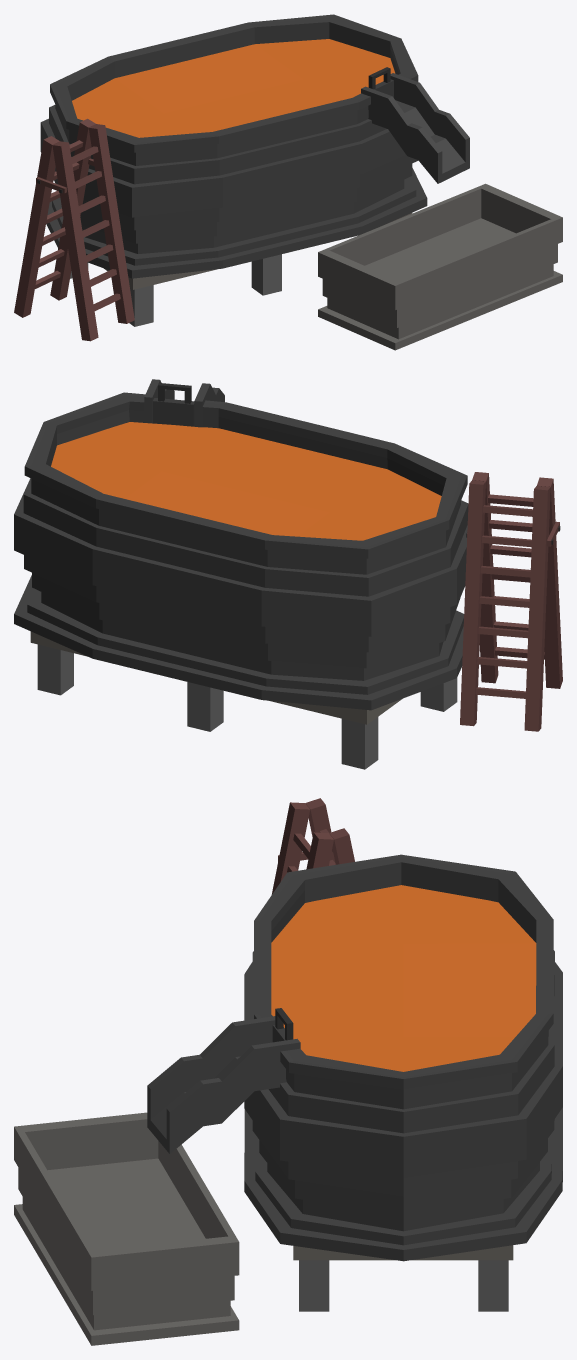
Rendered from boiler_level_3_all.fbx.
The picture shows the model from 3 angles, top to bottom: view 1: azimuth 30°, elevation 25°; view 2: azimuth 150°, elevation 25°; view 3: azimuth 270°, elevation 25°; orthographic projection. The views are drawn at different scales.
Visible parts, largest first — view 1: Cube.011, Plane.001, Cube.005, Cube.013; view 2: Cube.011, Cube.005, Cube.013; view 3: Cube.011, Plane.001, Cube.005.
Part boxes in pixels (x1=…): Cube.011: x1=40, y1=14, x2=469, y2=326; Plane.001: x1=318, y1=183, x2=562, y2=350; Cube.005: x1=14, y1=118, x2=134, y2=341; Cube.013: x1=368, y1=67, x2=393, y2=97; Cube.011: x1=14, y1=379, x2=468, y2=769; Cube.005: x1=460, y1=472, x2=562, y2=731; Cube.013: x1=153, y1=383, x2=194, y2=426; Cube.011: x1=147, y1=854, x2=562, y2=1311; Plane.001: x1=14, y1=1112, x2=239, y2=1345; Cube.005: x1=271, y1=798, x2=354, y2=894.
Bounding box in the file's own units: 334 × 144 × 260.
